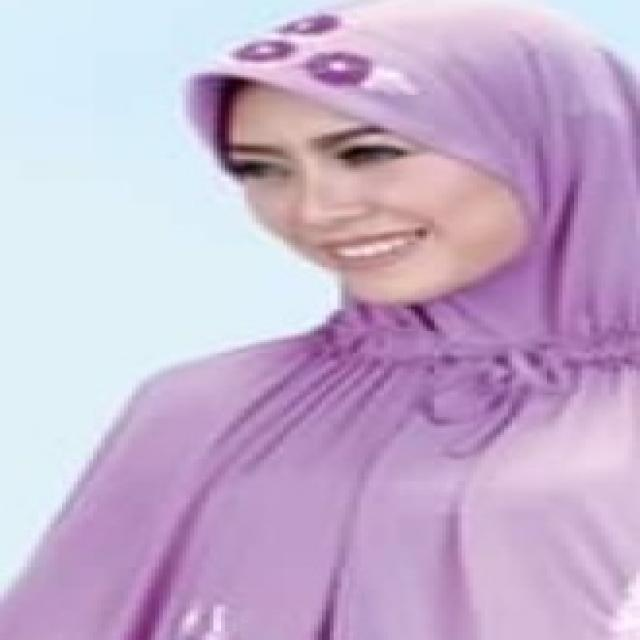head: (148, 5, 640, 308)
